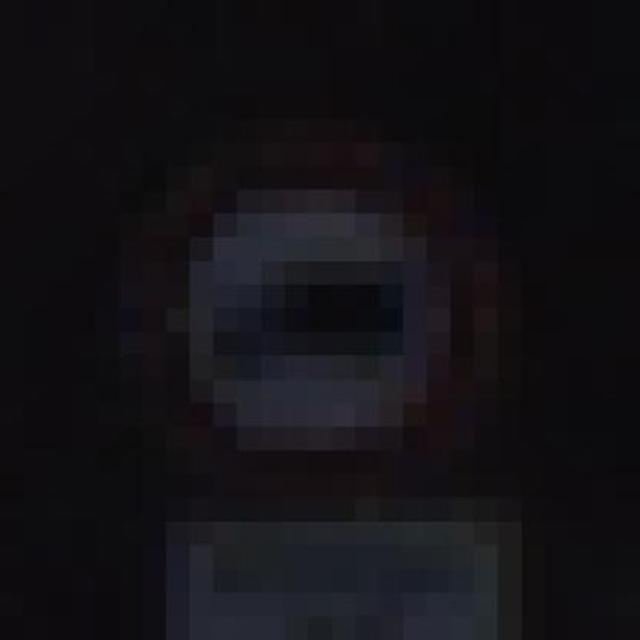Truck traffic is prohibited: (104, 82, 507, 533)
